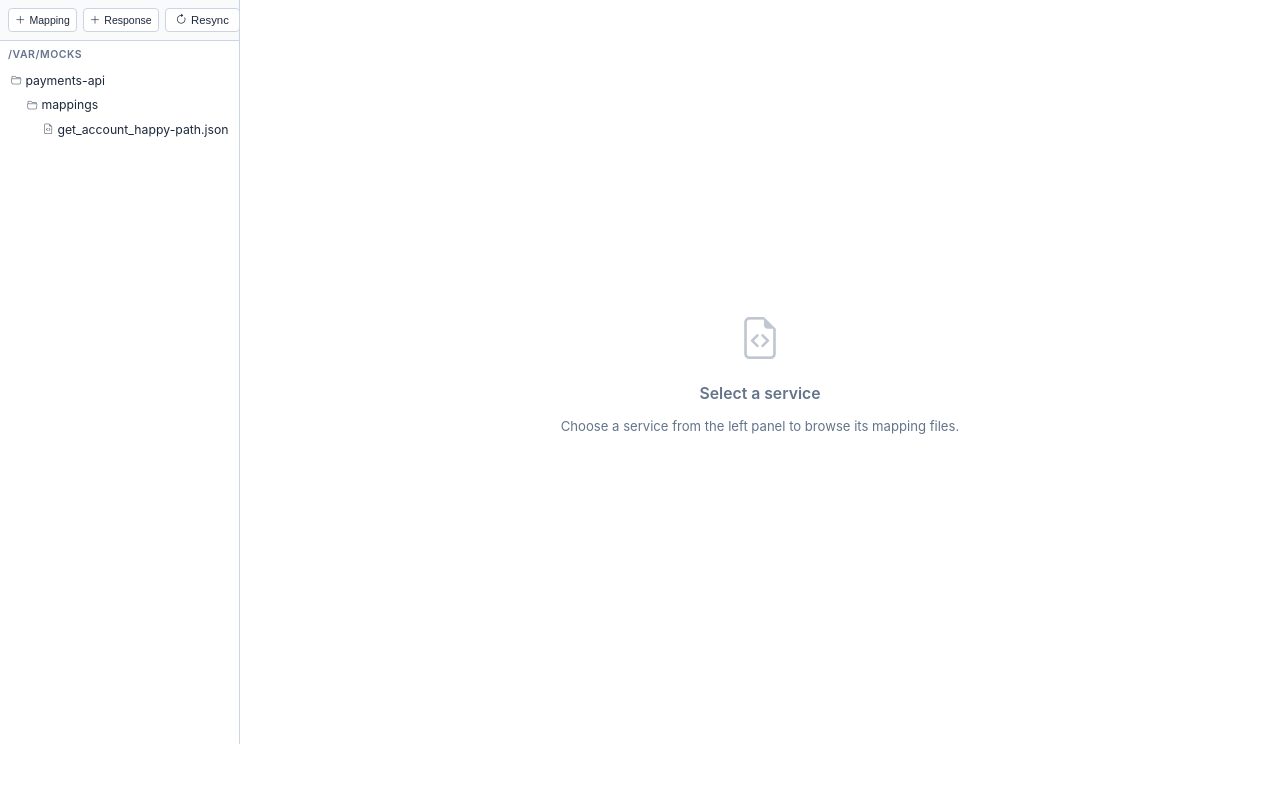
Story 4.2 — MappingsPage: Editor › AC-5: clicking a file in the tree fetches GET /api/mappings/{path} and shows breadcrumb
Click the list item with test id "mappings-tree-node-payments-api-get_account_happy-path.json": (136, 130) top-left (43, 122), bottom-right (229, 138)
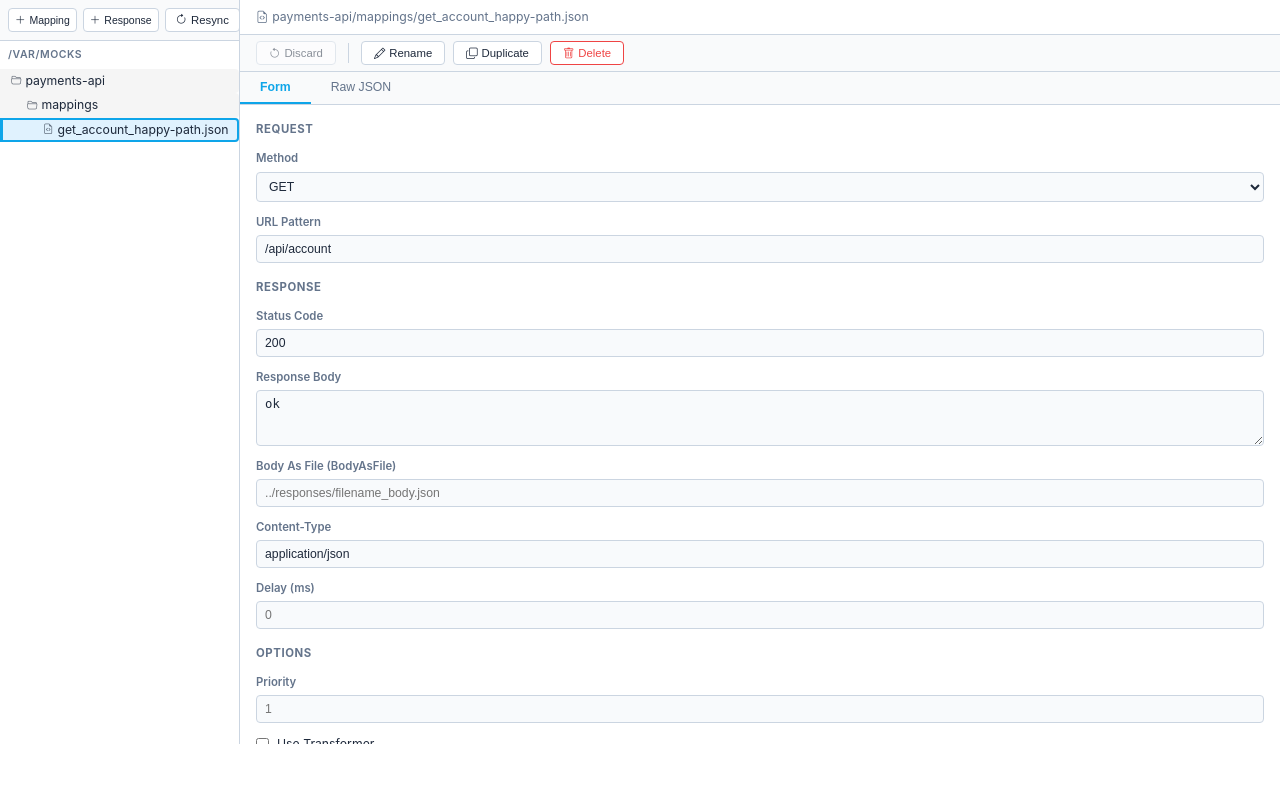
Expected: the element with test id "mappings-breadcrumb-editor" is shown, top-left (240, 0), bottom-right (1279, 35)
Expected: the element with test id "mappings-breadcrumb-editor" shows "get_account_happy-path.json", top-left (272, 9), bottom-right (589, 24)
